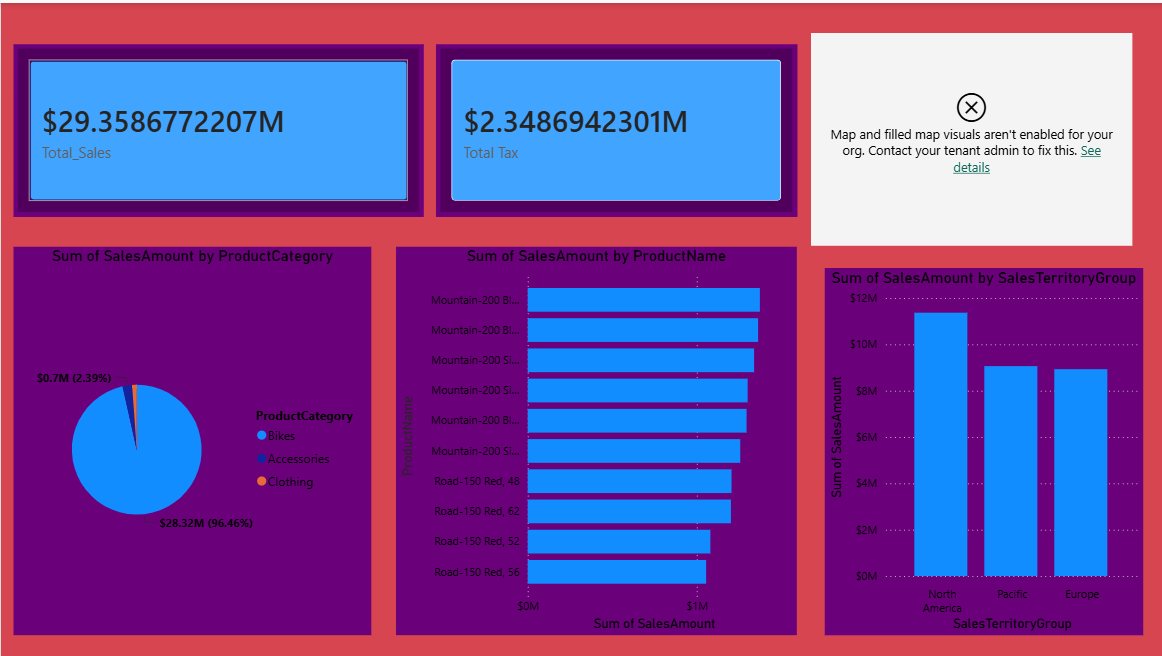

The page's visual inventory and layout, read from the dashboard file:
{"tool":"powerbi","page":{"name":"Page 1","canvas":[1280,720],"ordinal":0},"visuals":[{"type":"columnChart","fields":{"Y":["Sum(Sales.SalesAmount)"],"Category":["Sales.SalesTerritoryGroup"]},"box":[903.7,290.6,349.4,403.1],"z":0},{"type":"map","fields":{"Category":["Sales.SalesTerritoryCountry"],"Size":["Sum(Sales.SalesAmount)"]},"box":[888.6,33.6,352.8,233.5],"z":1000},{"type":"barChart","fields":{"Y":["Sum(Sales.SalesAmount)"],"Category":["Sales.ProductName"]},"box":[433.4,267.1,440.1,426.7],"z":2000},{"type":"pieChart","fields":{"Category":["Sales.ProductCategory"],"Y":["Sum(Sales.SalesAmount)"]},"box":[13.4,267.1,393.1,426.7],"z":3000},{"type":"cardVisual","fields":{"Data":["Sales.Total_Sales"]},"box":[13.4,45.4,450.2,189.8],"z":4000},{"type":"cardVisual","fields":{"Data":["Sales.Total Tax"]},"box":[477.1,45.4,396.4,189.8],"z":5000}]}

Visuals, with their boxes in screenshot pixels (x1, y1, x2, y2), scaled from the page's 1280x720 canvas onto the 1162x656 screenshot:
columnChart - Sum(Sales.SalesAmount) x Sales.SalesTerritoryGroup: 820:265:1138:632
map - Sales.SalesTerritoryCountry x Sum(Sales.SalesAmount): 807:31:1127:243
barChart - Sum(Sales.SalesAmount) x Sales.ProductName: 393:243:793:632
pieChart - Sales.ProductCategory x Sum(Sales.SalesAmount): 12:243:369:632
cardVisual - Sales.Total_Sales: 12:41:421:214
cardVisual - Sales.Total Tax: 433:41:793:214
